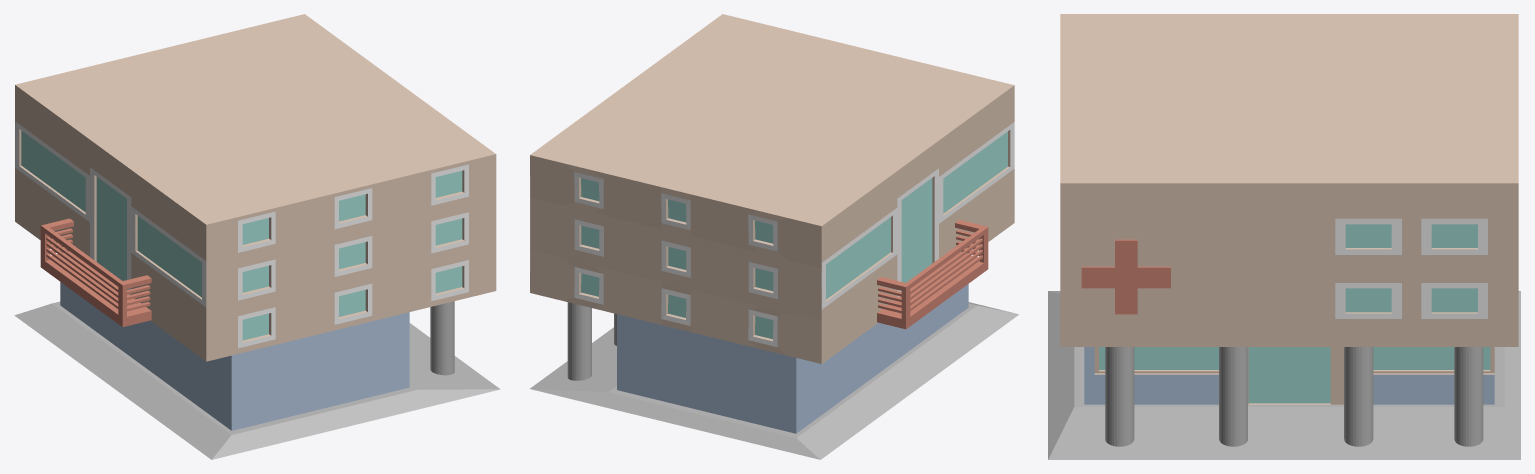
The model's file is veterinario.fbx.
3 renders of one model, left to right at view 1: azimuth 30°, elevation 25°; view 2: azimuth 150°, elevation 25°; view 3: azimuth 270°, elevation 25°, orthographic. The views are drawn at different scales.
Parts seen in each view (by area): view 1: building_002, Cylinder; view 2: building_002, Cylinder.001; view 3: building_002, Cylinder, Cylinder.001, Cylinder.002, Cylinder.003.
Part boxes in pixels (box(x1,y1,x2,y2)): building_002: box(14, 14, 500, 459); Cylinder: box(430, 301, 454, 375); building_002: box(530, 14, 1018, 459); Cylinder.001: box(567, 302, 591, 380); building_002: box(1048, 14, 1520, 459); Cylinder: box(1105, 347, 1134, 446); Cylinder.001: box(1454, 347, 1483, 446); Cylinder.002: box(1344, 347, 1373, 446); Cylinder.003: box(1219, 347, 1247, 446).
Size of the model in its own units: 1907 by 1316 by 2035.
